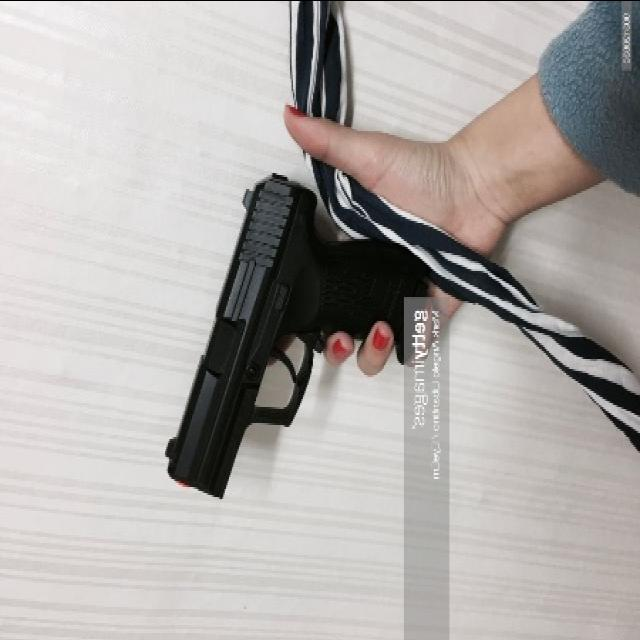handgun: (164, 171, 424, 503)
